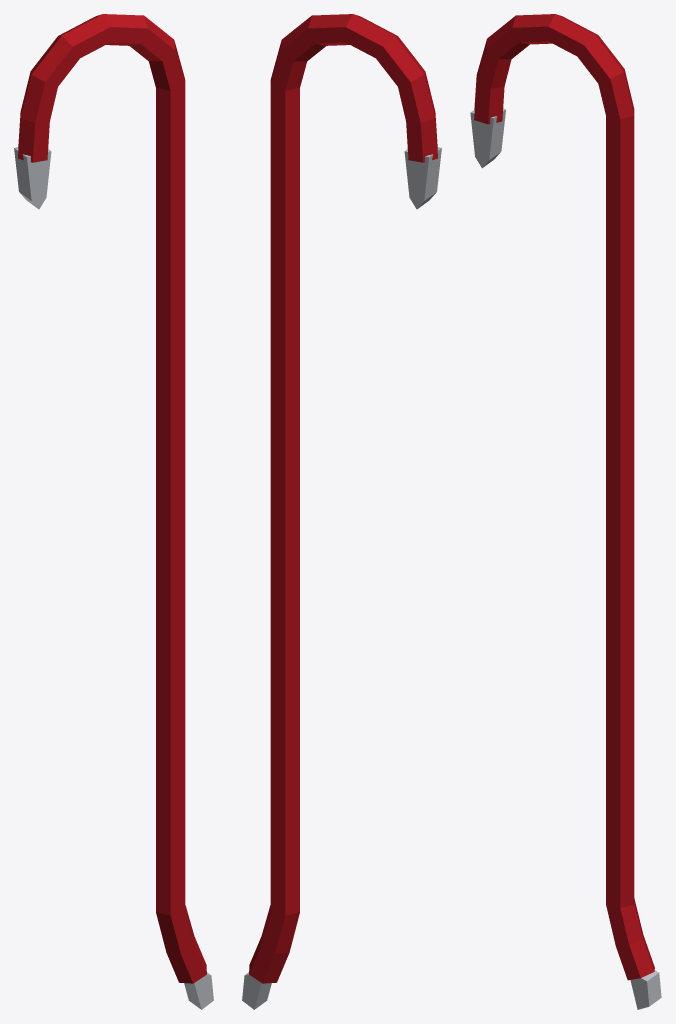
File: crowbar.glb
3 renders of one model, left to right at view 1: azimuth 30°, elevation 25°; view 2: azimuth 150°, elevation 25°; view 3: azimuth 330°, elevation 25°, orthographic. The views are drawn at different scales.
Visible parts, largest first — view 1: crowbar; view 2: crowbar; view 3: crowbar.
Boxes of the visible parts, <box> form: crowbar: <box>14,14,213,1009</box>; crowbar: <box>242,14,441,1009</box>; crowbar: <box>470,14,661,1009</box>.
Size of the model in its own units: 0.154 by 0.787 by 0.0208.
